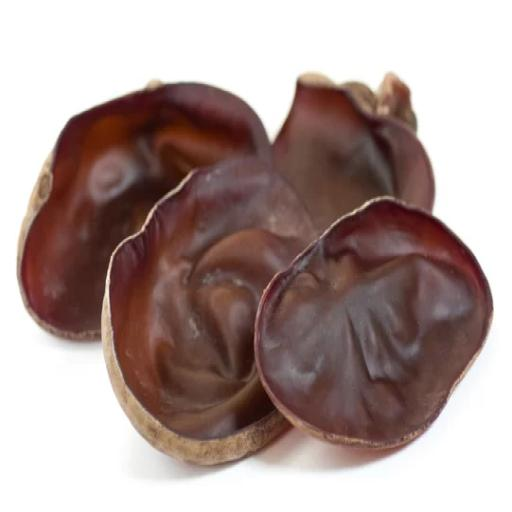Wood Ear Mushroom: (14, 73, 503, 485)
